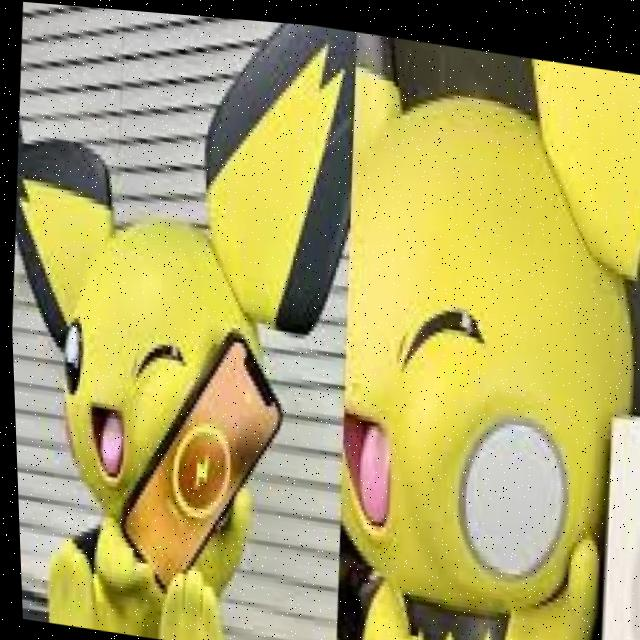pichu: (0, 0, 364, 640), (284, 18, 640, 640)
